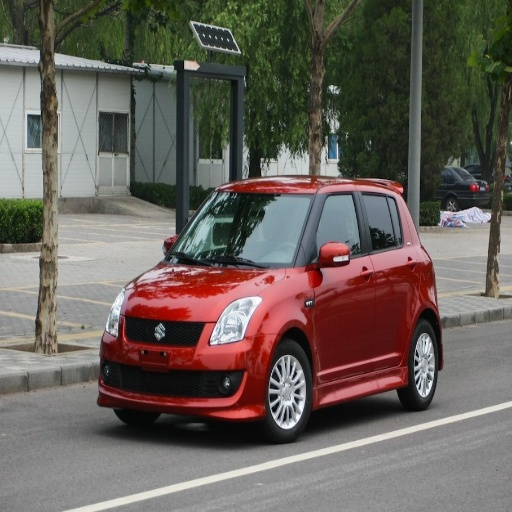front_bumper: (102, 312, 273, 419)
front_glass: (169, 186, 315, 266)
front_left_door: (306, 188, 377, 382)
